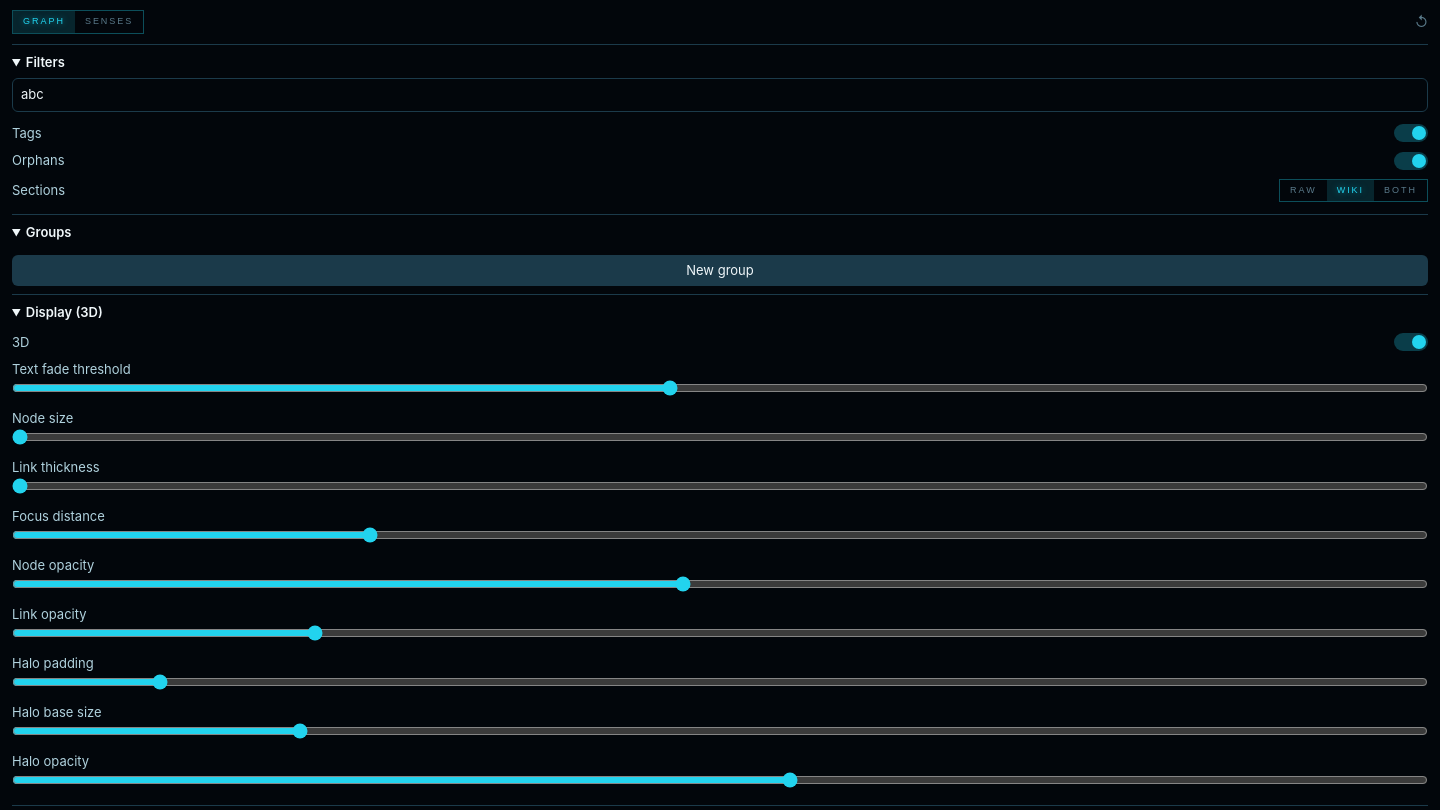
Test: daily briefing notes folder › goes back to 'Not set' when cleared
This screenshot has width=1440, height=810.
What coordinates should you click on to do the following:
click the button "Senses"
I would click on:
 (109, 22)
Its box is 75,11 -> 143,32.
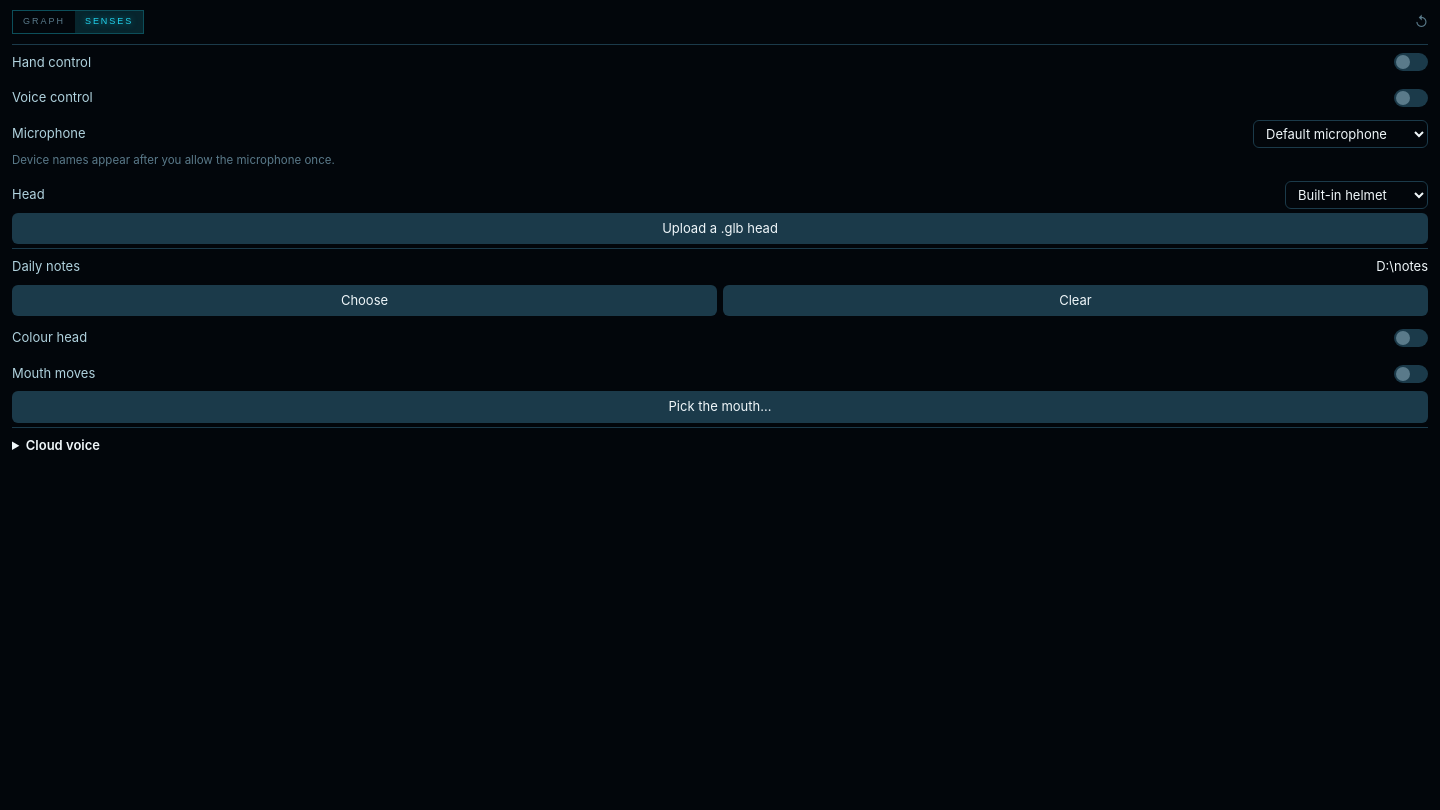
What coordinates should you click on to do the following:
click the button with test id "notes-dir-clear"
I would click on:
 (1076, 301)
Its box is 723,285 -> 1428,316.
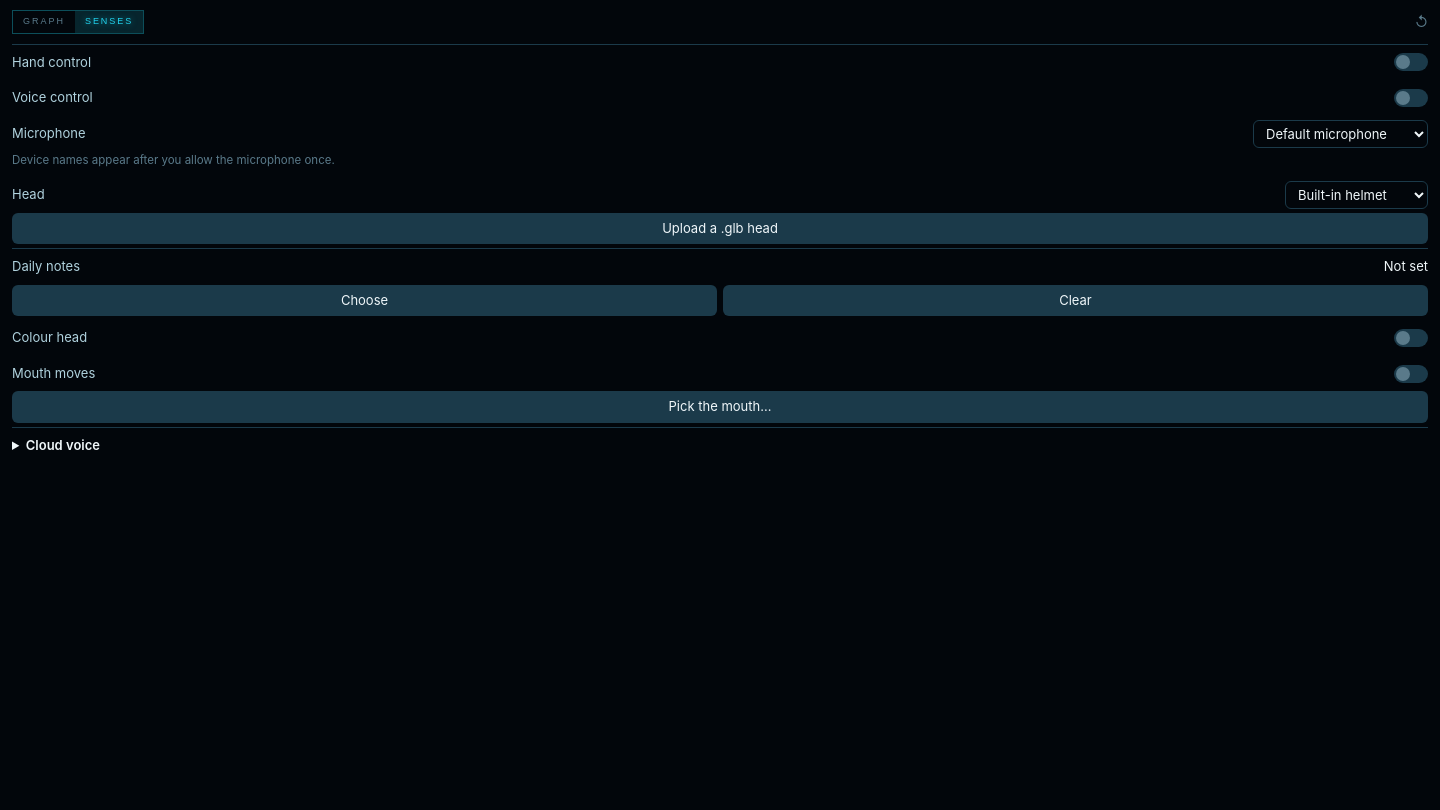
Result: the text with test id "notes-dir-path" reads "Not set" at 1384,258 -> 1428,274
